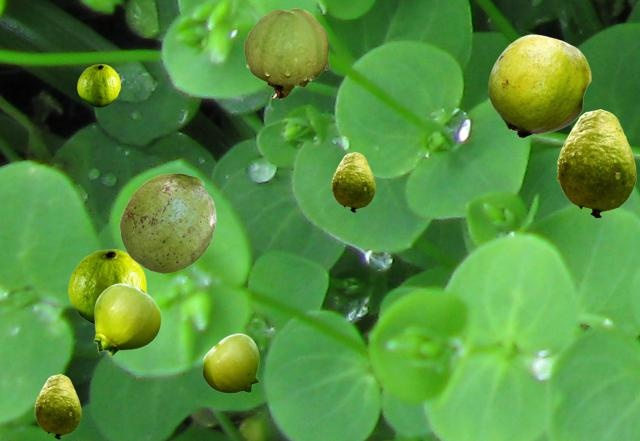guava: (488, 34, 590, 137), (119, 173, 215, 272), (556, 109, 635, 217), (244, 8, 328, 98), (68, 249, 145, 324), (93, 283, 160, 355), (202, 333, 258, 392), (34, 374, 80, 438), (331, 152, 374, 211), (77, 64, 119, 106)
